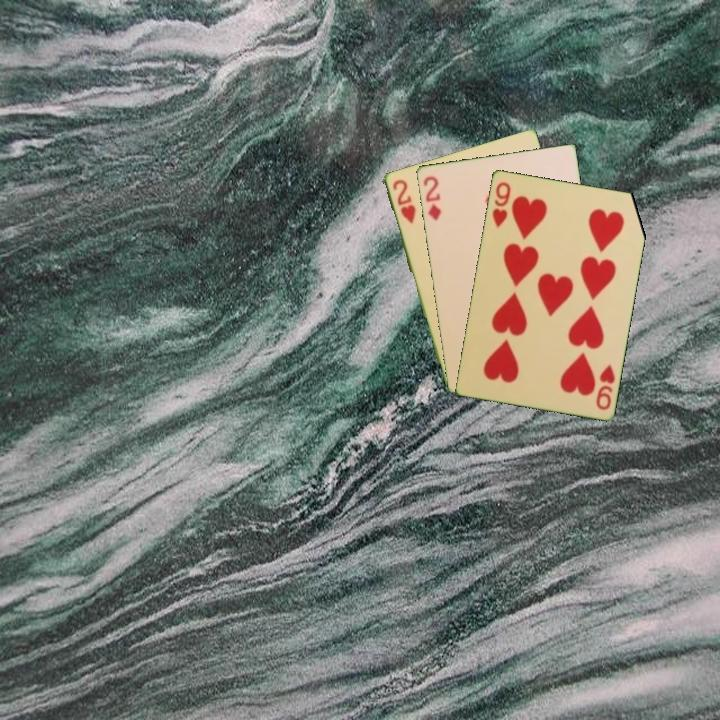2d: (420, 172, 444, 223)
2h: (389, 176, 418, 227)
9h: (592, 361, 618, 413), (488, 178, 513, 230)
